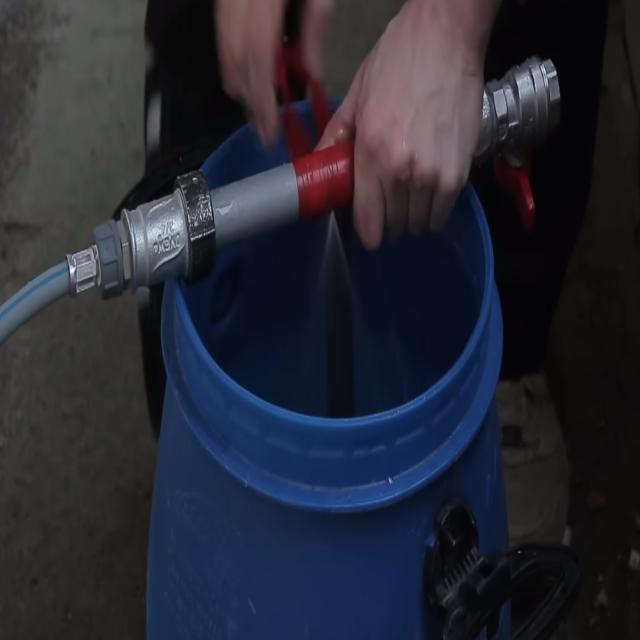leak: (306, 209, 374, 355)
